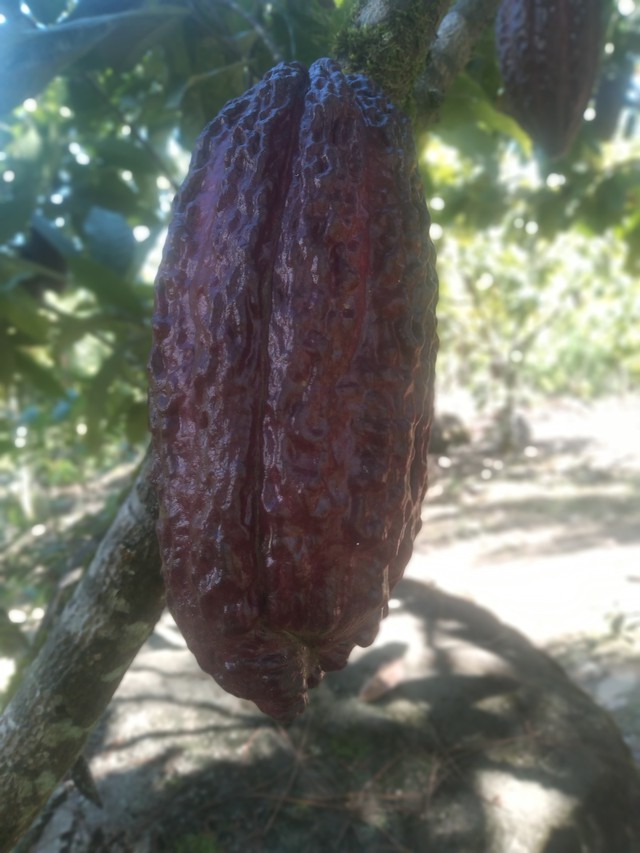Health: (128, 46, 457, 747)
